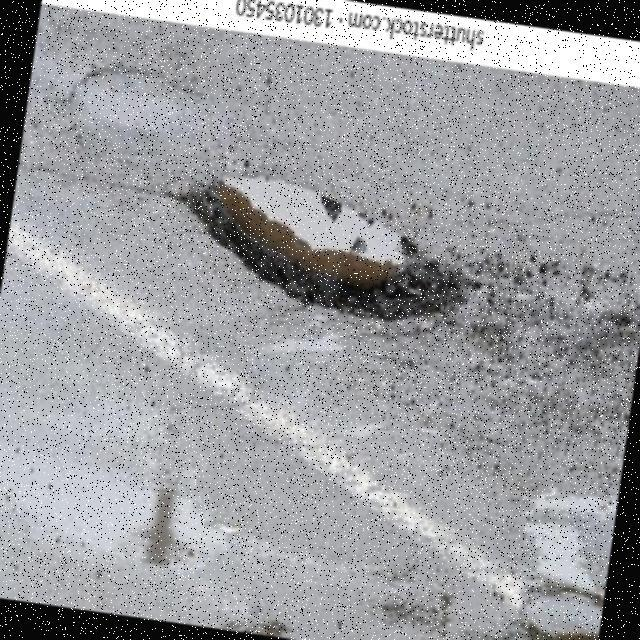Pothole: (168, 175, 465, 321)
